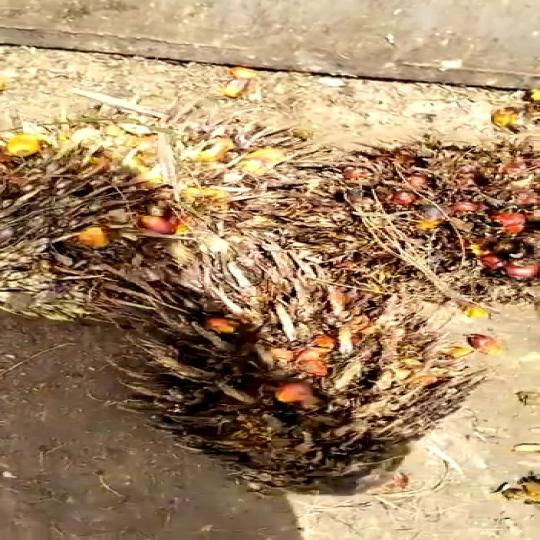terlalu masak: (106, 264, 485, 497)
